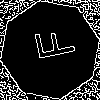F: (25, 25, 76, 64)
